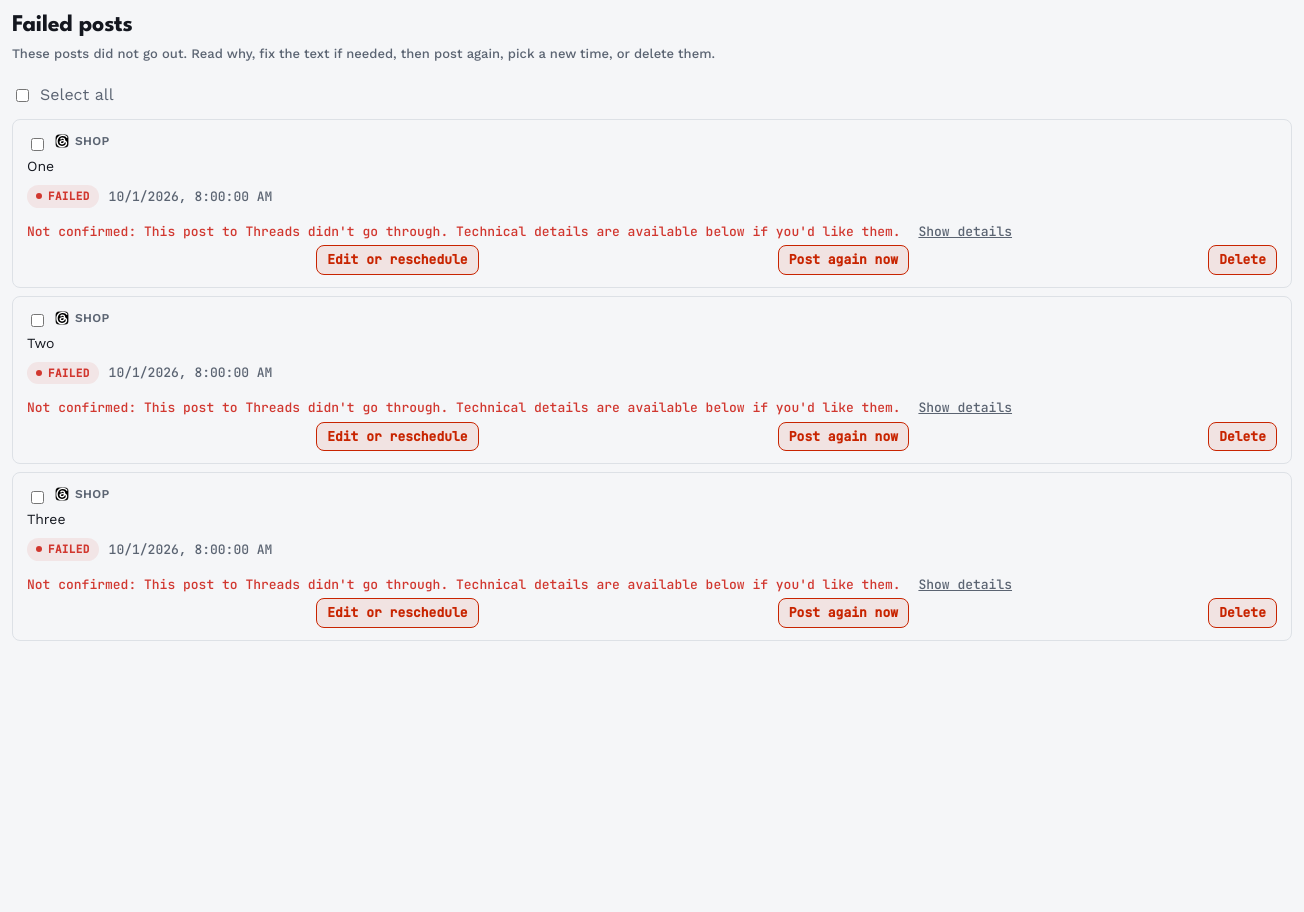
Test: FailedTab › bulk delete › shows no delete button until something is ticked, then deletes only the ticked posts
Expected: the text "One" is shown, [27,158,54,174]
Expected: the button "Delete selected" is not shown
Click the checkbox named "Select this post".
click(38, 144)  # box [31,138,44,151]
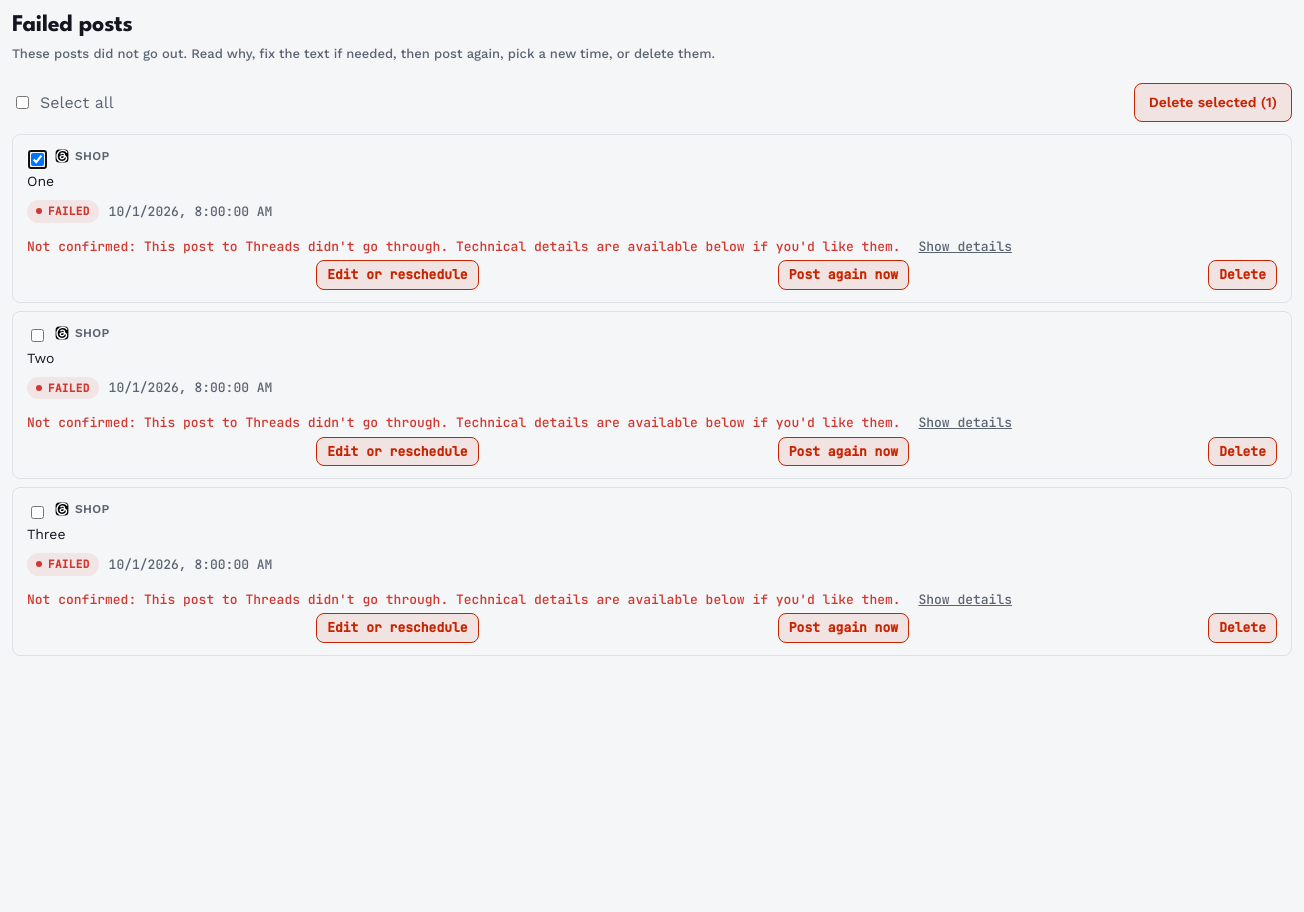
Click the checkbox named "Select this post".
click(38, 512)  # box [31,506,44,519]
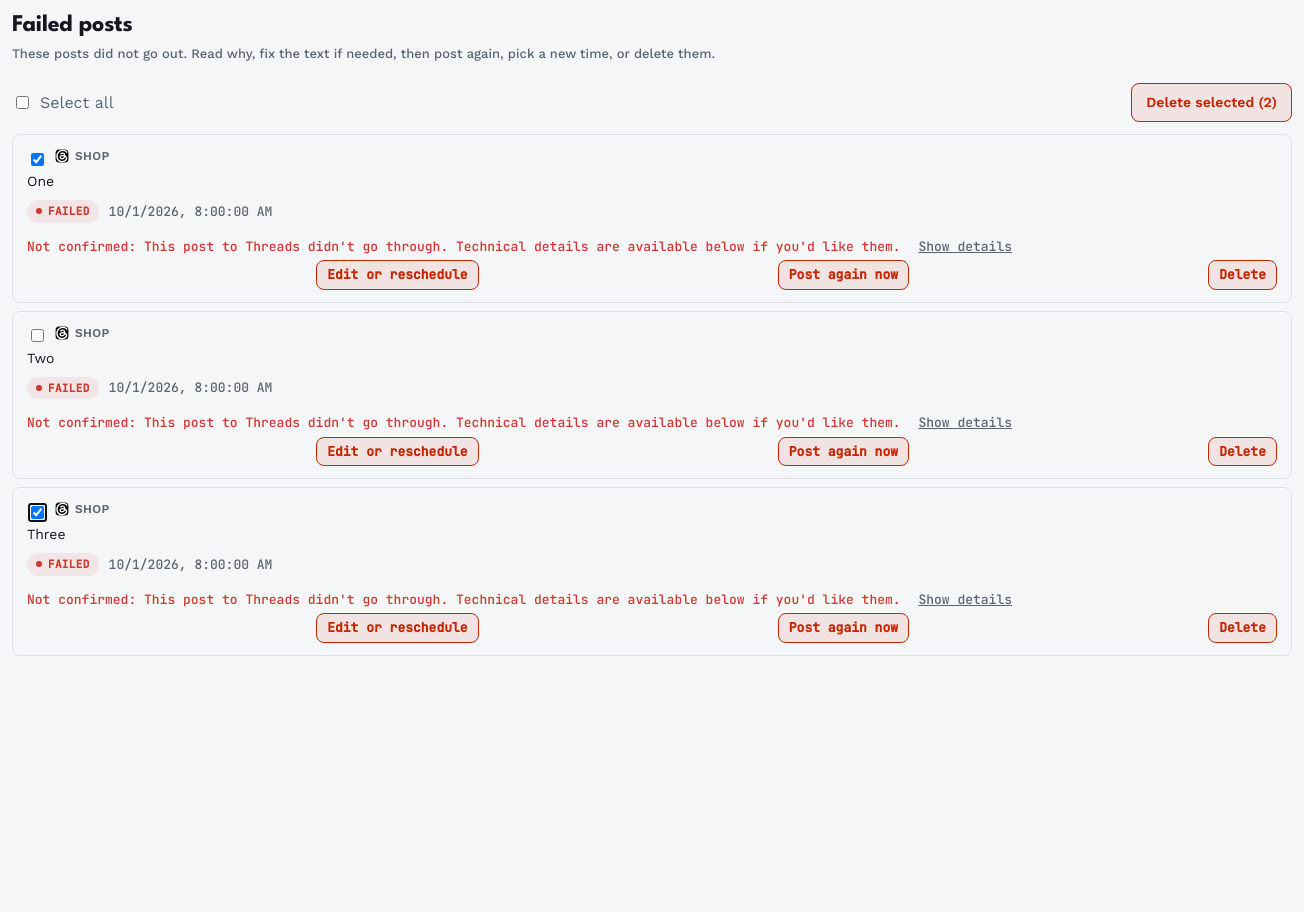
Click the button "Delete selected (2)".
click(1212, 103)  # box [1131,83,1292,122]
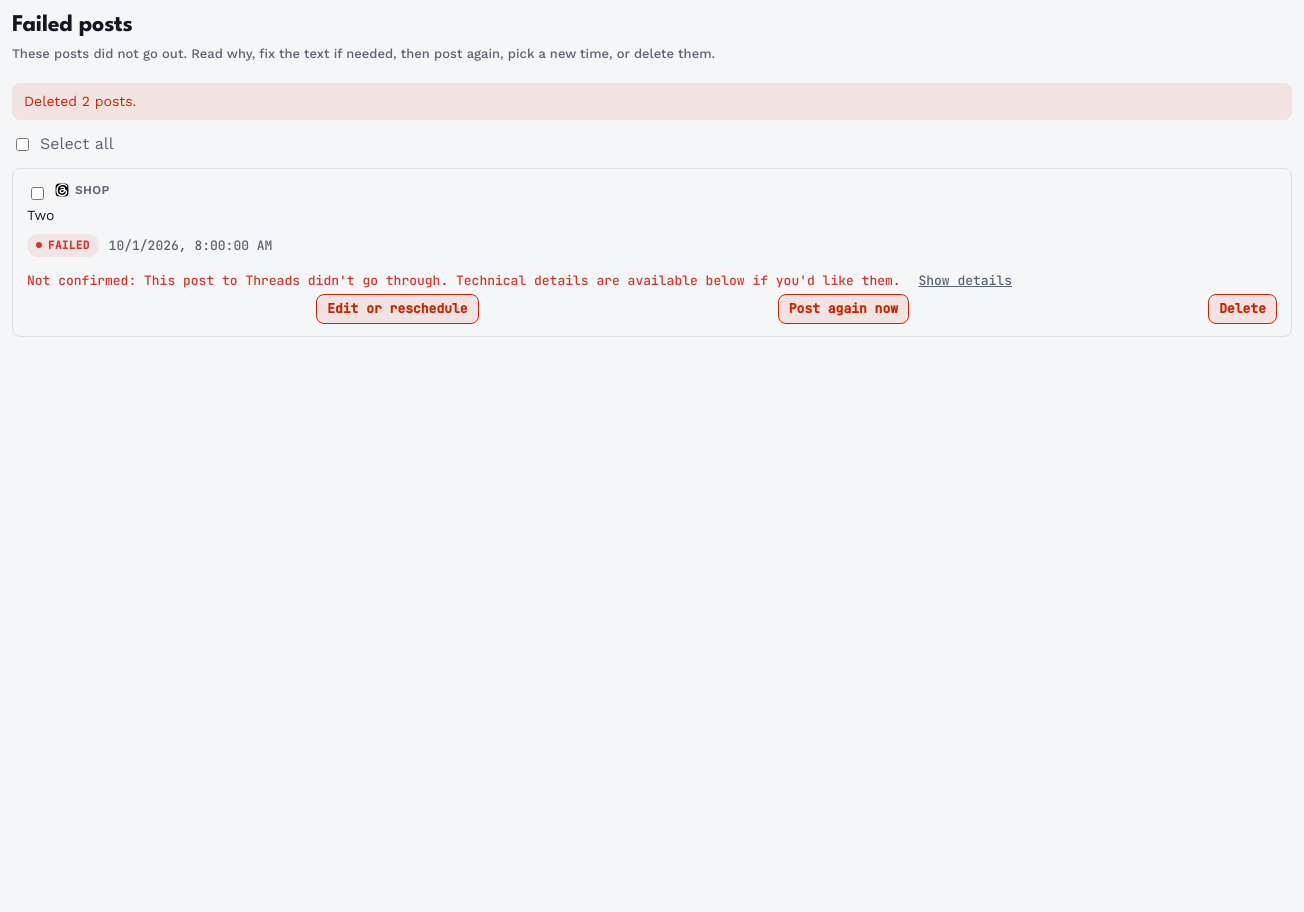
Expected: the text "Two" is shown, [27,207,54,223]
Now the text "One" is gone
